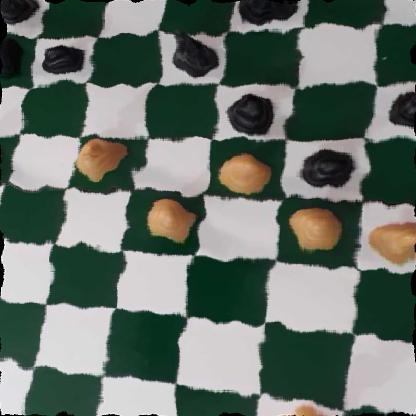black-king: (232, 0, 298, 25)
black-knight: (159, 25, 220, 78)
black-pawn: (216, 92, 281, 139), (294, 144, 356, 191), (40, 41, 93, 78), (384, 86, 416, 130), (0, 37, 27, 76)
black-rook: (0, 0, 45, 32)
white-bishop: (70, 139, 133, 181)
white-king: (267, 398, 346, 416)
white-pawn: (285, 205, 345, 254), (208, 150, 274, 192), (364, 211, 416, 264), (134, 199, 197, 242), (0, 139, 5, 176)
